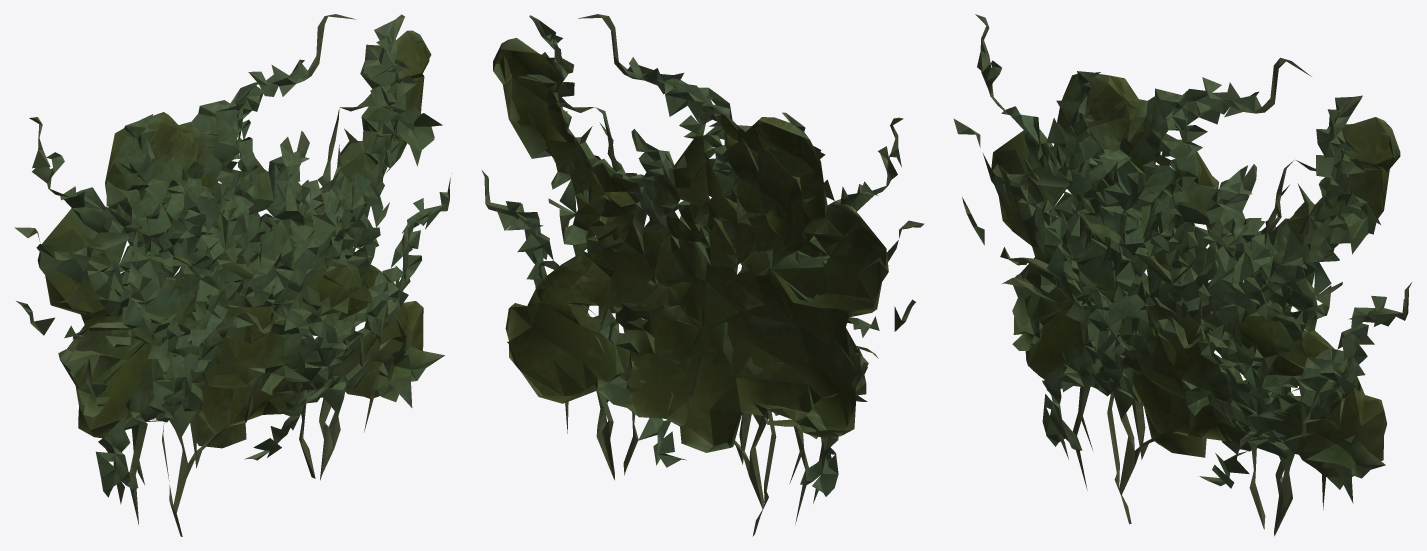
Rendered from sp_m_ivy.glb.
The picture shows the model from 3 angles, left to right: view 1: azimuth 30°, elevation 25°; view 2: azimuth 150°, elevation 25°; view 3: azimuth 330°, elevation 25°; orthographic projection. The views are drawn at different scales.
Parts seen in each view (by area): view 1: Mesh_0; view 2: Mesh_0; view 3: Mesh_0.
Boxes of the visible parts, x1=… form: Mesh_0: x1=14, y1=14, x2=450, y2=536; Mesh_0: x1=481, y1=14, x2=924, y2=536; Mesh_0: x1=953, y1=14, x2=1411, y2=536.
Bounding box in the file's own units: 1.58 × 1.66 × 0.1839.
1 material, 1 textured.
